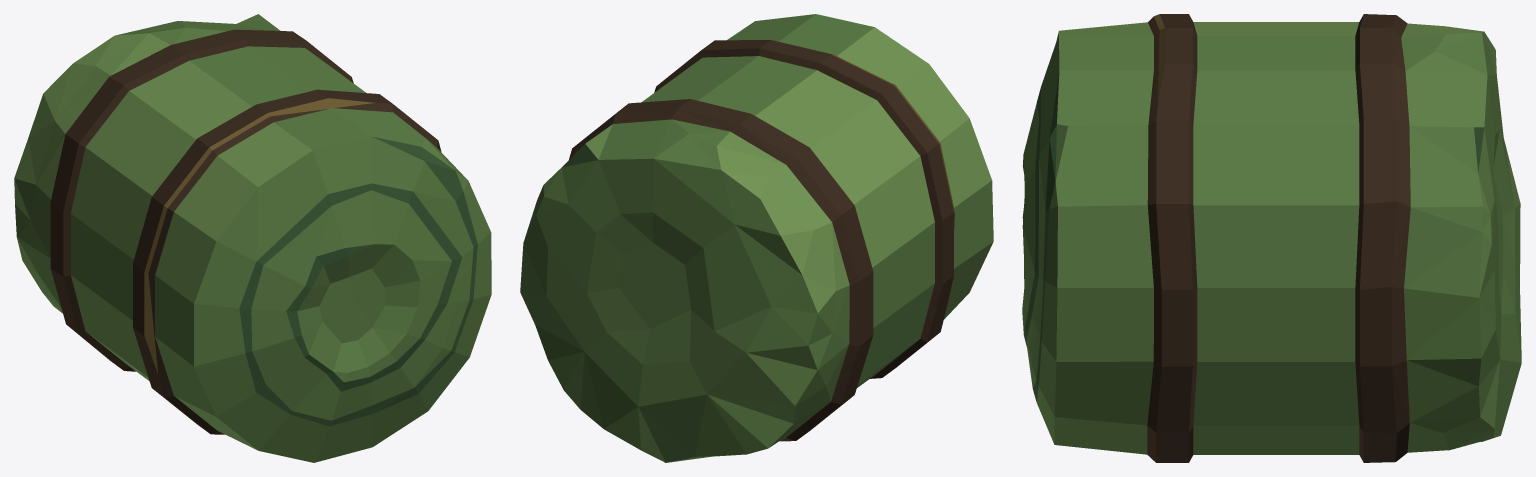
Rendered from EA_M_HayBale_Green_01b.fbx.
The picture shows the model from 3 angles, left to right: view 1: azimuth 30°, elevation 25°; view 2: azimuth 150°, elevation 25°; view 3: azimuth 270°, elevation 25°; orthographic projection. The views are drawn at different scales.
Parts seen in each view (by area): view 1: EA_M_HayBale_Green_01b_LOD0; view 2: EA_M_HayBale_Green_01b_LOD0; view 3: EA_M_HayBale_Green_01b_LOD0.
Boxes of the visible parts, bbox=[...] form: EA_M_HayBale_Green_01b_LOD0: bbox=[14, 14, 491, 462]; EA_M_HayBale_Green_01b_LOD0: bbox=[520, 14, 993, 462]; EA_M_HayBale_Green_01b_LOD0: bbox=[1022, 14, 1521, 462].
Size of what is drawn, in the model's own units: 1.39 by 1.39 by 1.63.
